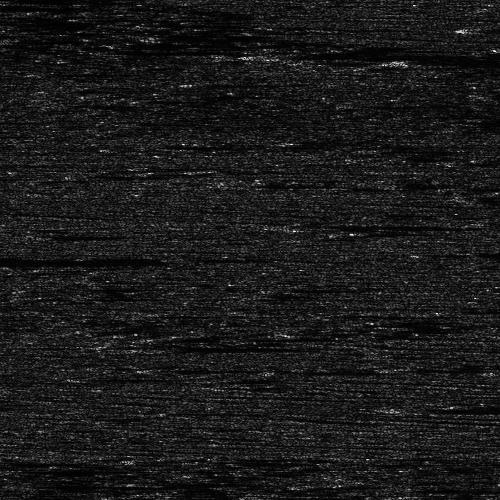object: (112, 341, 195, 352), (221, 51, 304, 60), (409, 400, 462, 413), (85, 478, 158, 483), (138, 366, 191, 371), (393, 60, 434, 63)
shadow: (263, 51, 500, 60), (0, 253, 143, 264), (153, 341, 279, 352), (436, 400, 500, 413), (122, 478, 245, 483), (165, 366, 249, 371), (414, 60, 500, 63)
